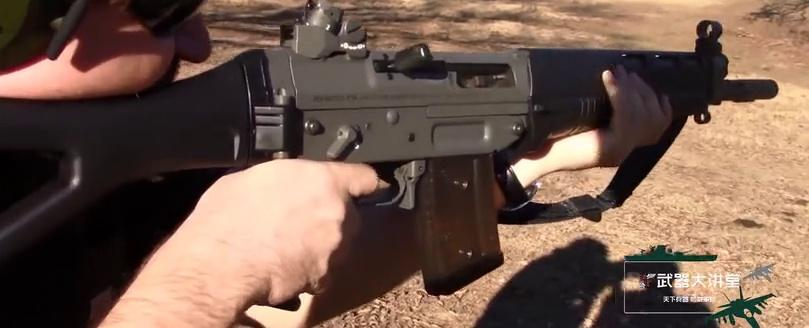gun: (1, 1, 809, 328)
